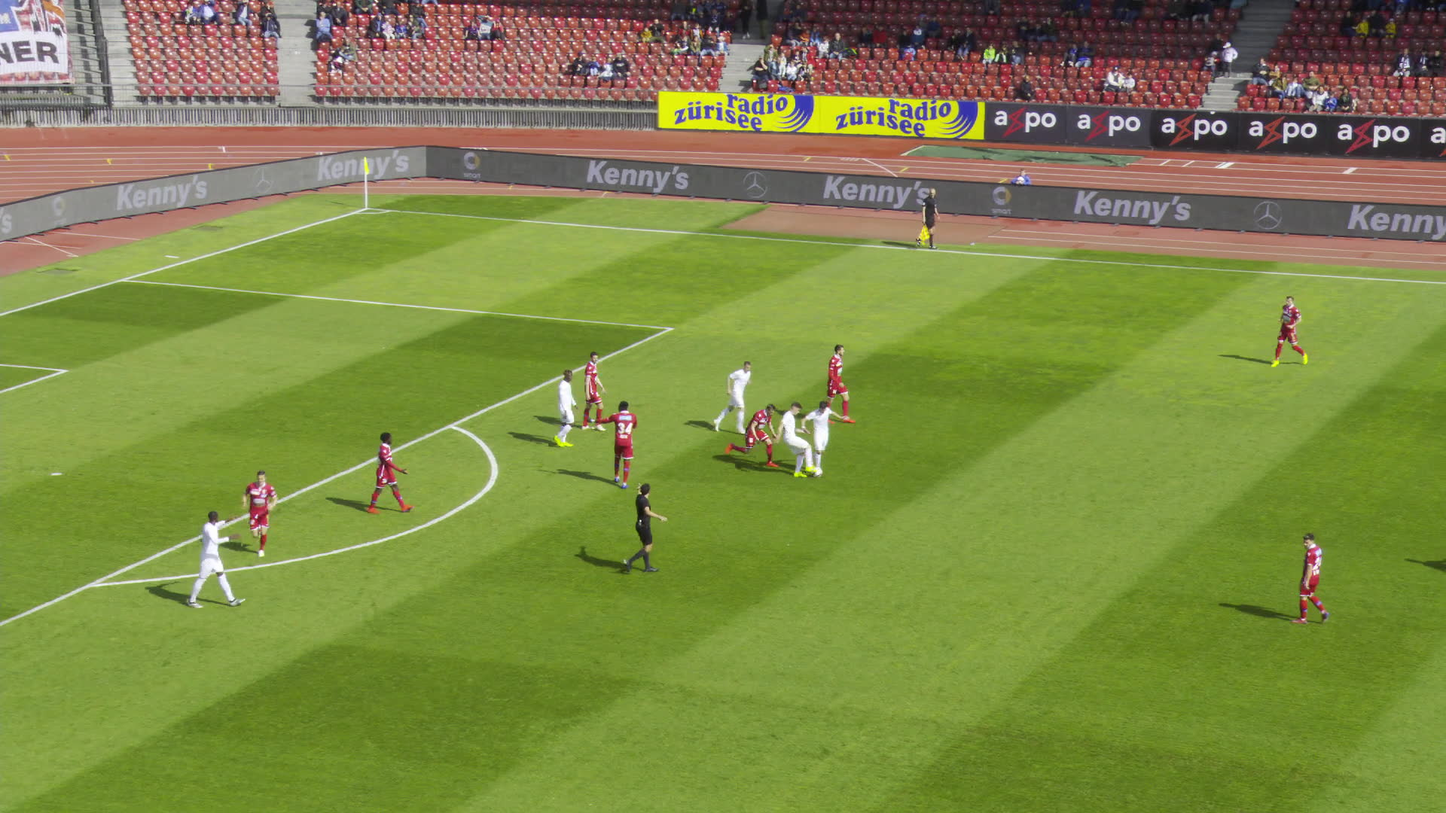ball: (812, 465, 822, 476)
player: (185, 510, 241, 607), (588, 400, 636, 487), (1288, 531, 1331, 626), (773, 400, 819, 478), (725, 400, 780, 465), (368, 431, 409, 514), (801, 400, 848, 470), (574, 352, 612, 431), (242, 468, 276, 556), (712, 360, 752, 434), (821, 345, 856, 425), (1271, 295, 1307, 367), (552, 369, 578, 448)
referee: (626, 483, 670, 574), (916, 189, 941, 248)
